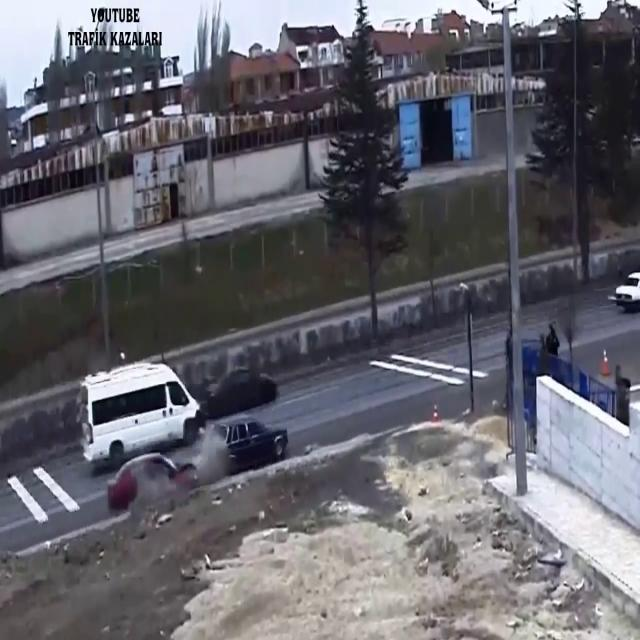accident: (108, 416, 290, 511)
